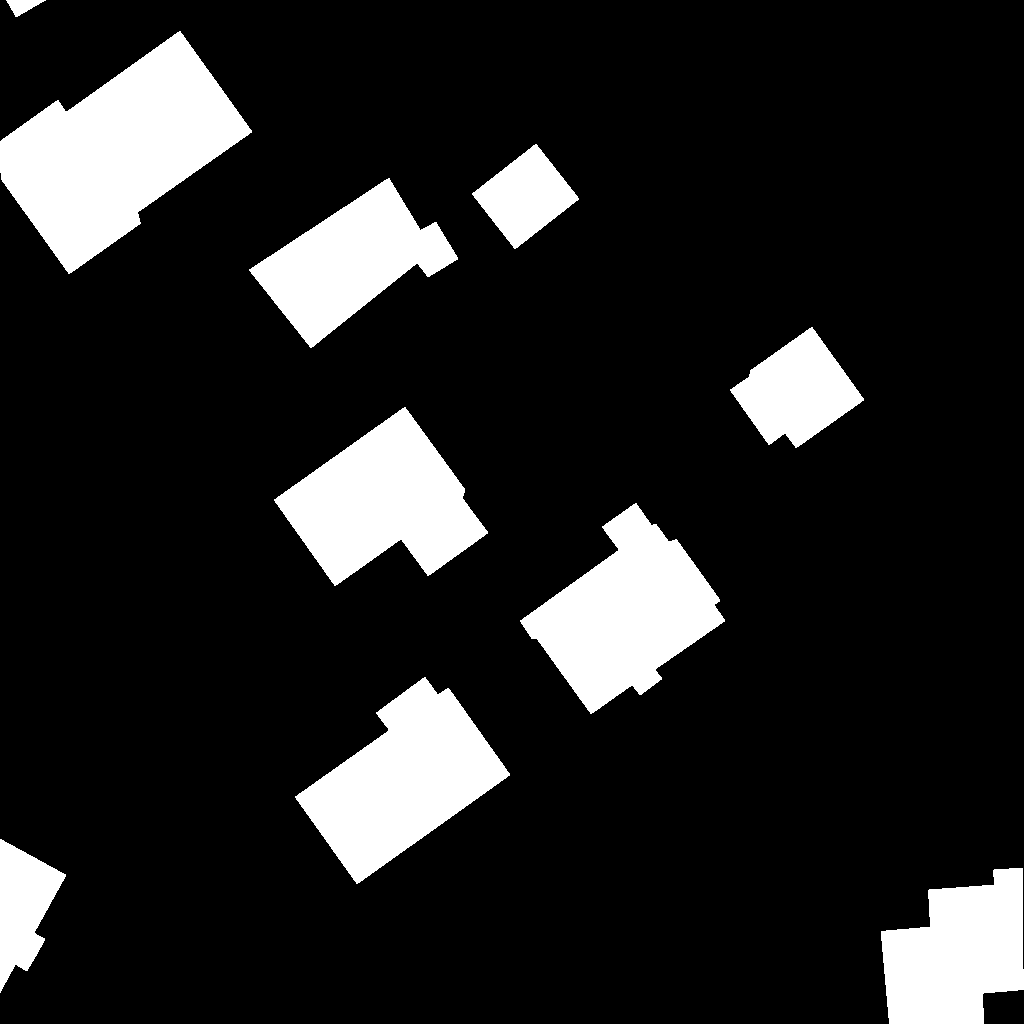building: (0, 31, 253, 275), (295, 677, 511, 885), (520, 503, 726, 715), (274, 407, 489, 587), (249, 178, 459, 349), (881, 868, 1024, 1024), (730, 327, 865, 449), (472, 144, 580, 250), (0, 839, 67, 994), (6, 0, 47, 18)
